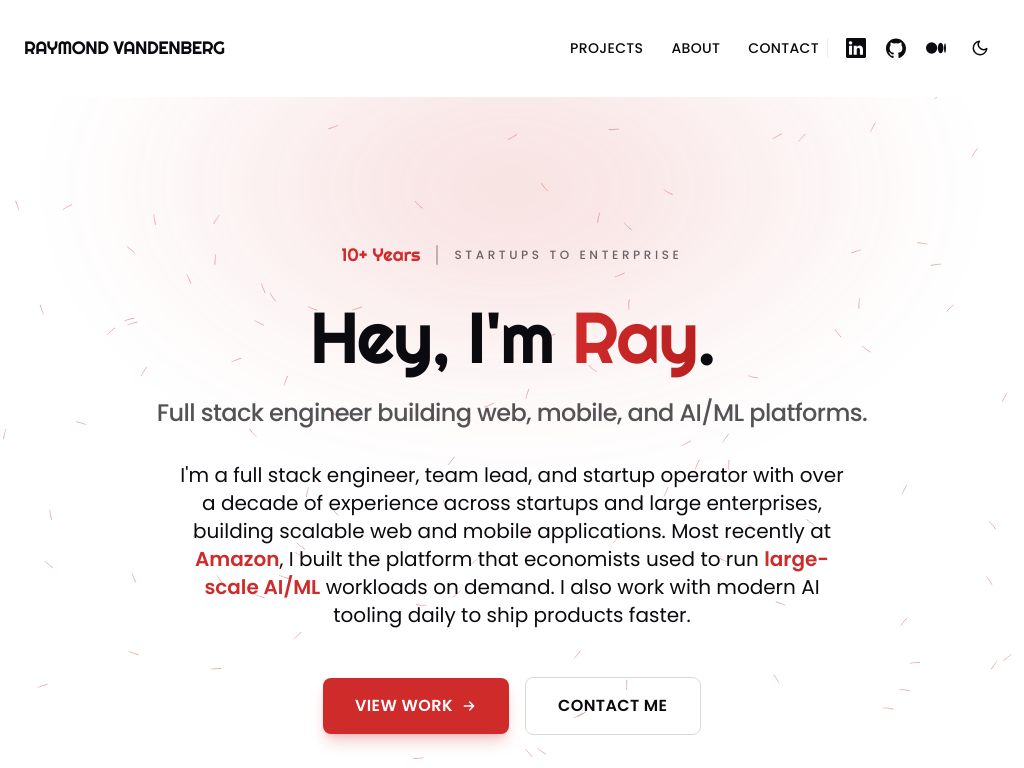
Portfolio smoke tests › navigates to the About page
Click the link "About About" at (696, 48), box [671,38,720,58]
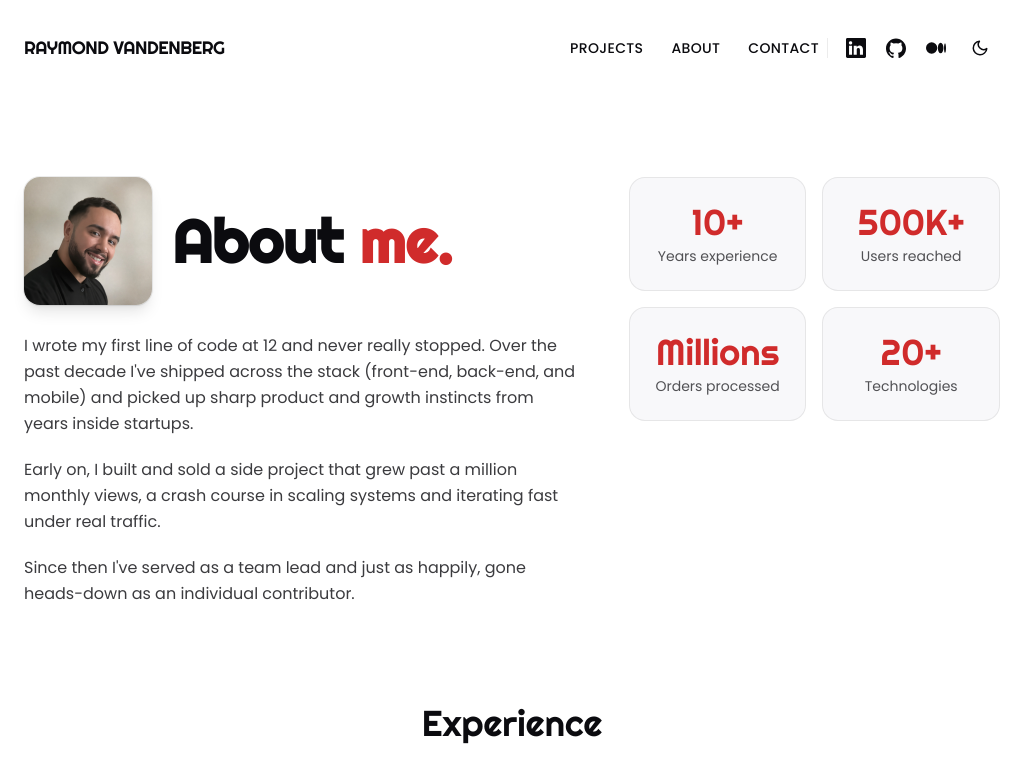
Result: the heading "About me." is shown at [172,211,452,271]
